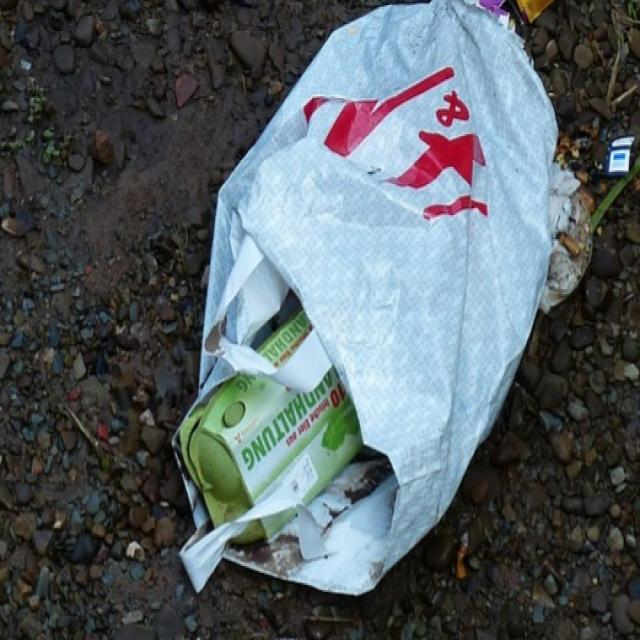plastic bag: (123, 0, 624, 609)
